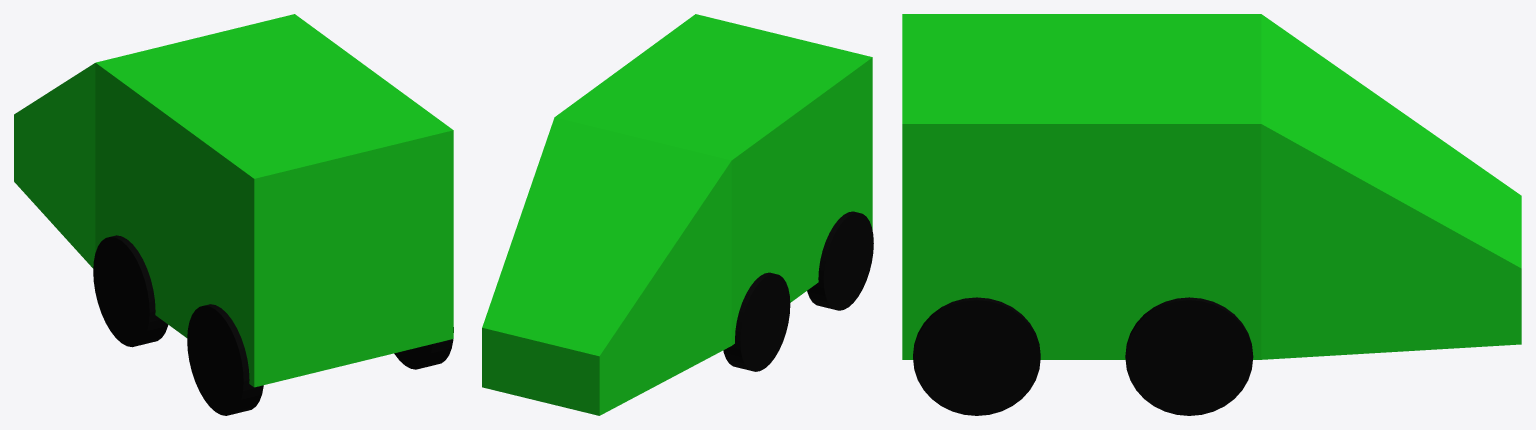
File: car.fbx
3 views of the same model, side by side, from view 1: azimuth 30°, elevation 25°; view 2: azimuth 150°, elevation 25°; view 3: azimuth 270°, elevation 25° (orthographic). The views are drawn at different scales.
Visible parts, largest first — view 1: Car; view 2: Car; view 3: Car.
Boxes of the visible parts, x1,y1,x2,y2 form: Car: [14, 14, 453, 415]; Car: [482, 14, 873, 415]; Car: [902, 14, 1521, 415].
Size of the model in its own units: 2.11 by 2.45 by 4.76.
